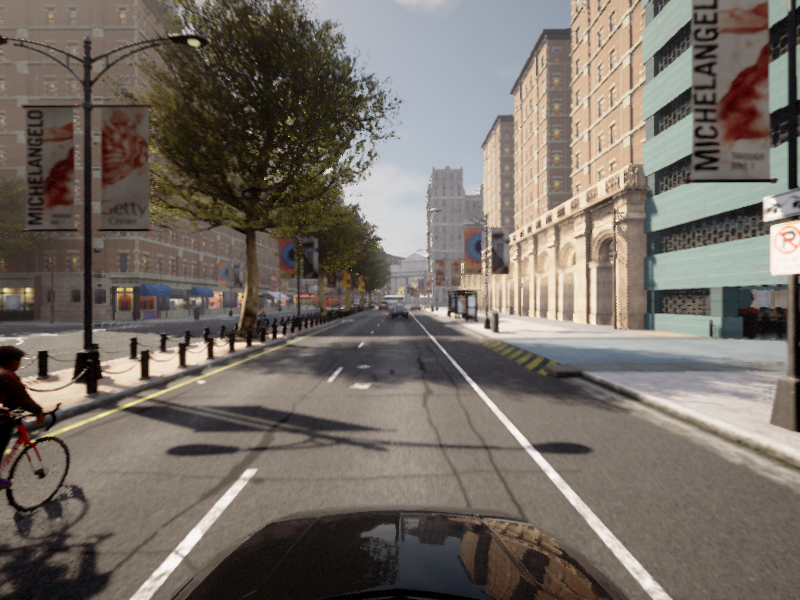vehicle: (1, 339, 97, 599), (253, 305, 270, 325), (242, 304, 259, 321), (388, 306, 408, 319)
